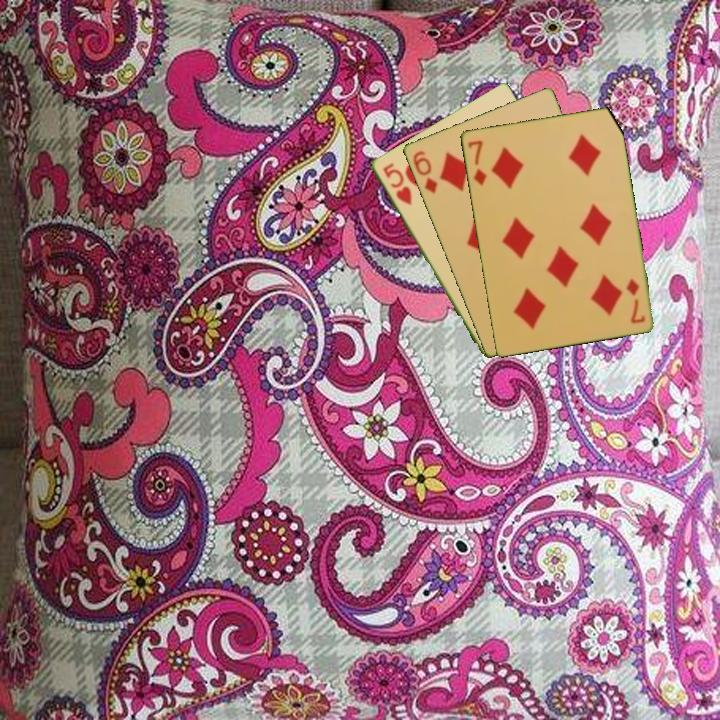5h: (379, 159, 414, 208)
6d: (409, 147, 440, 196)
7d: (464, 136, 490, 188), (622, 275, 648, 326)
